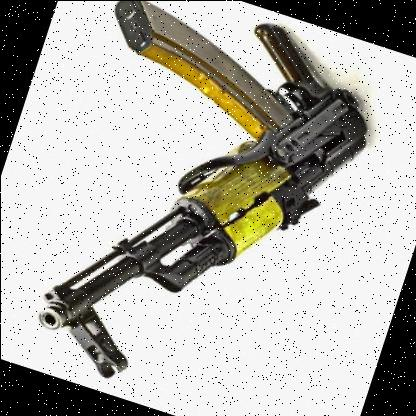rifle: (0, 0, 406, 413)
